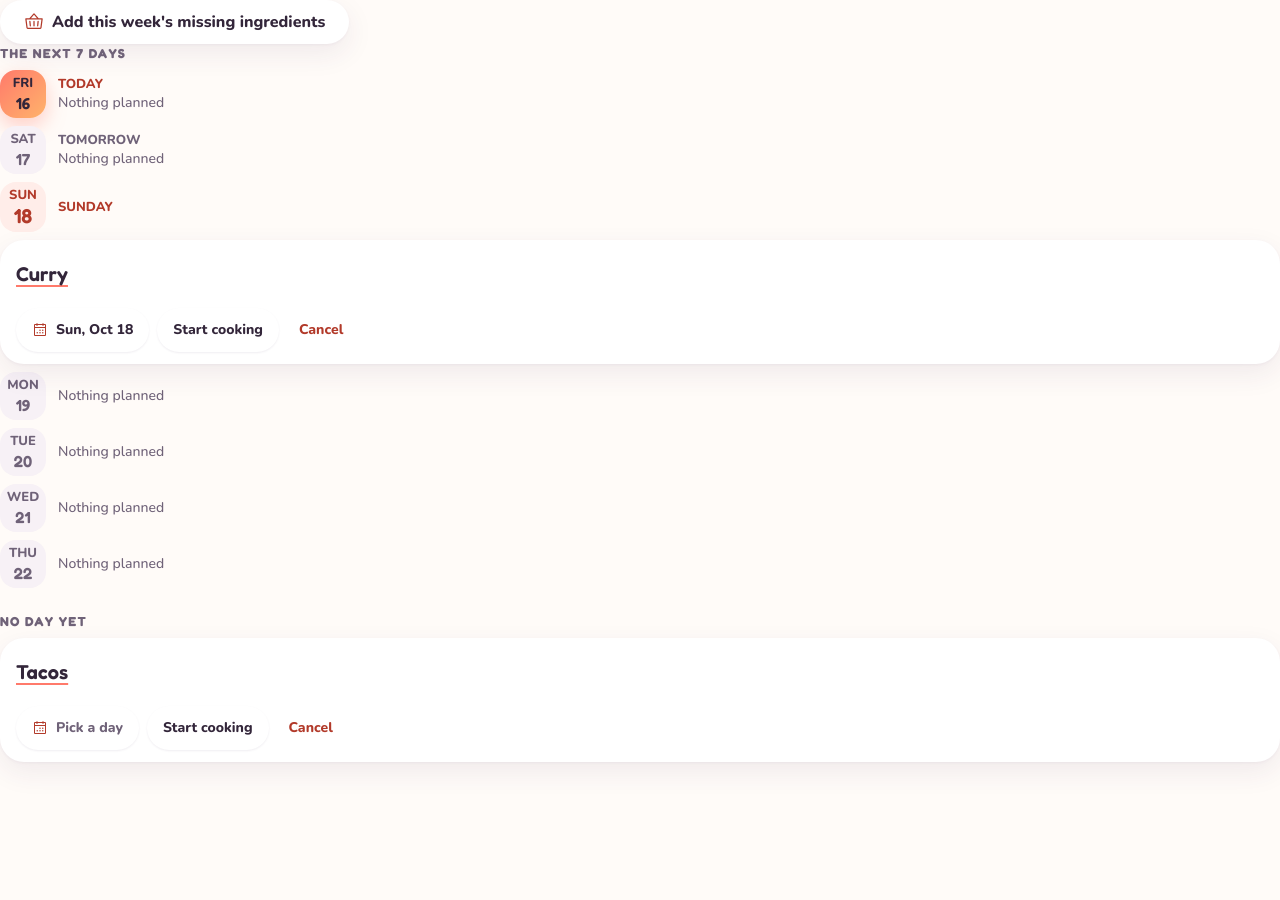
Test: Add this week's missing ingredients (KOS12) › empty states: no meals in the week; everything in the kitchen; everything already on the list
Click the button "Add this week's missing ingredients". click: click(175, 22)
box: [0, 0, 349, 44]
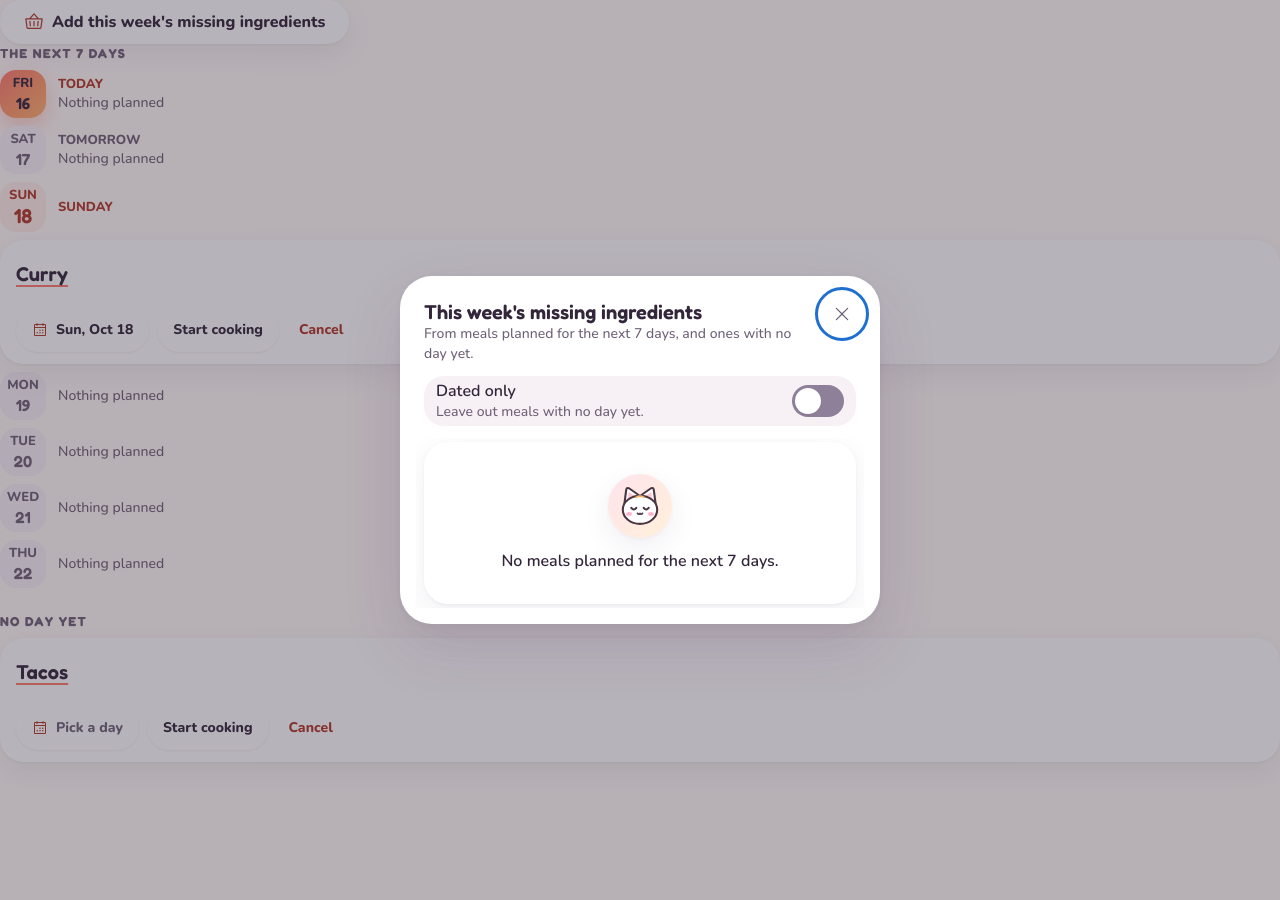
Expected: the text "No meals planned for the next 7 days." is shown, [502, 550, 778, 572]
Click the button named "Close". click: click(842, 314)
box: [820, 292, 864, 336]
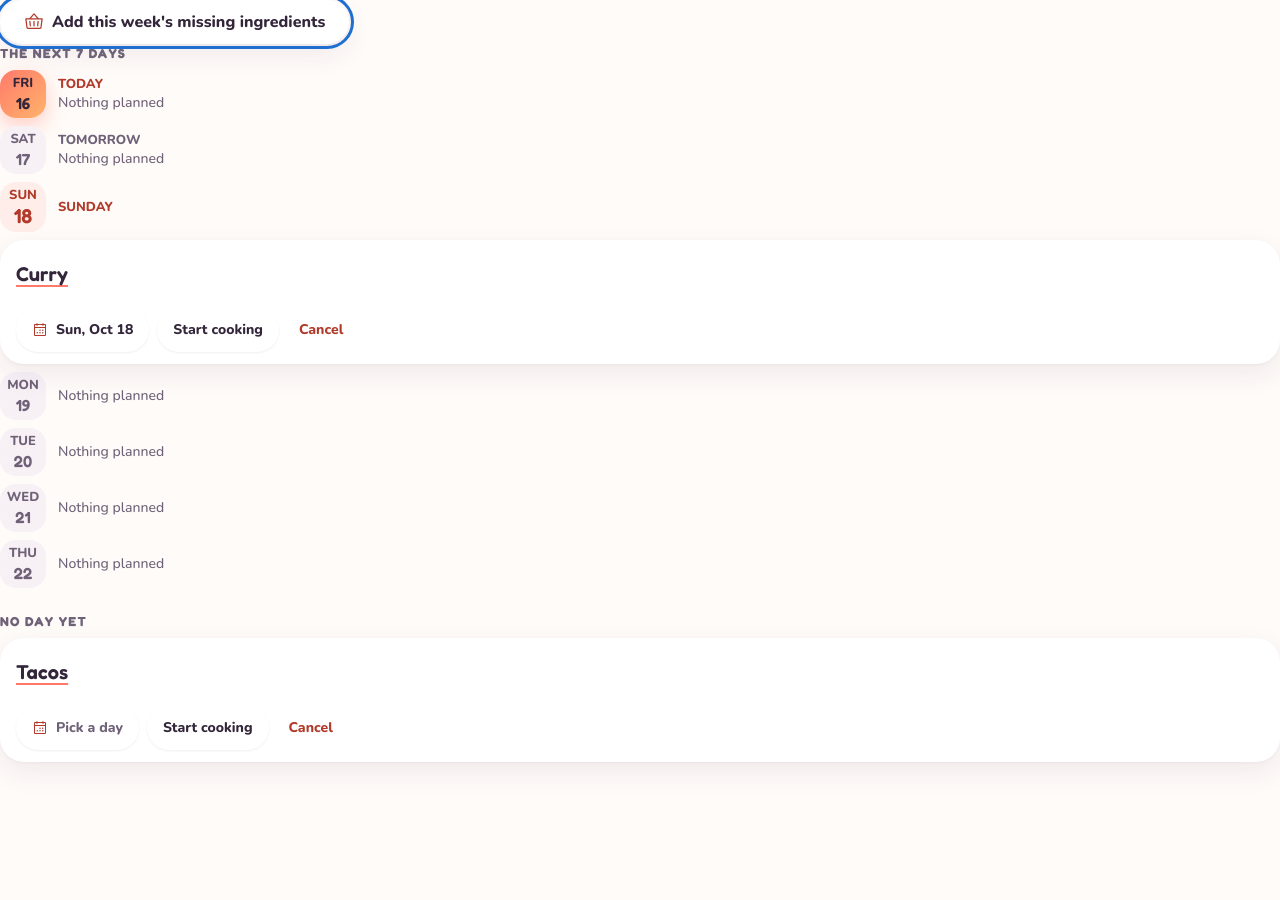
Click the button "Add this week's missing ingredients". click: click(175, 22)
box: [0, 0, 349, 44]
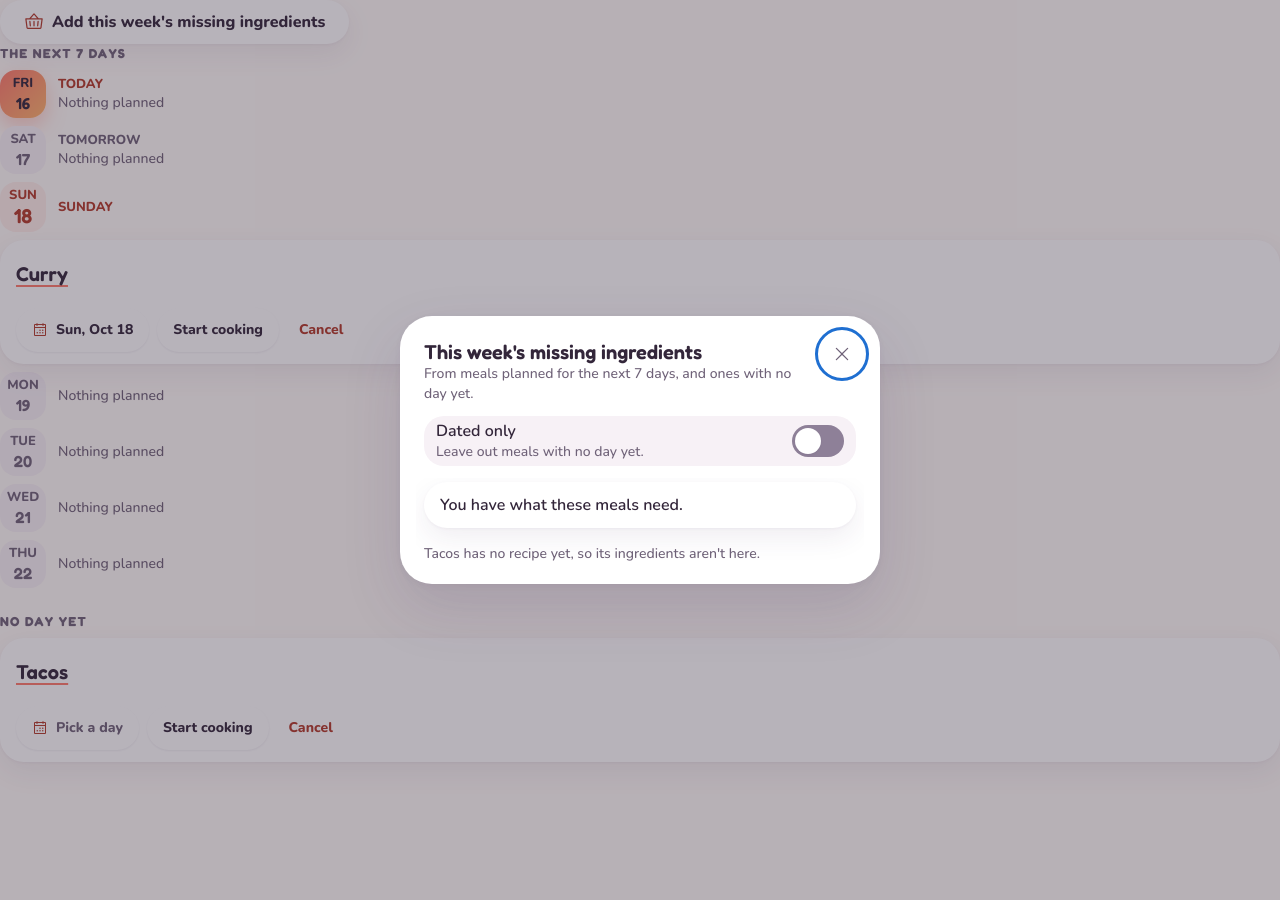
Expected: the text "You have what these meals need." is shown, [424, 482, 856, 528]
Click the button named "Close". click: click(842, 354)
box: [820, 332, 864, 376]
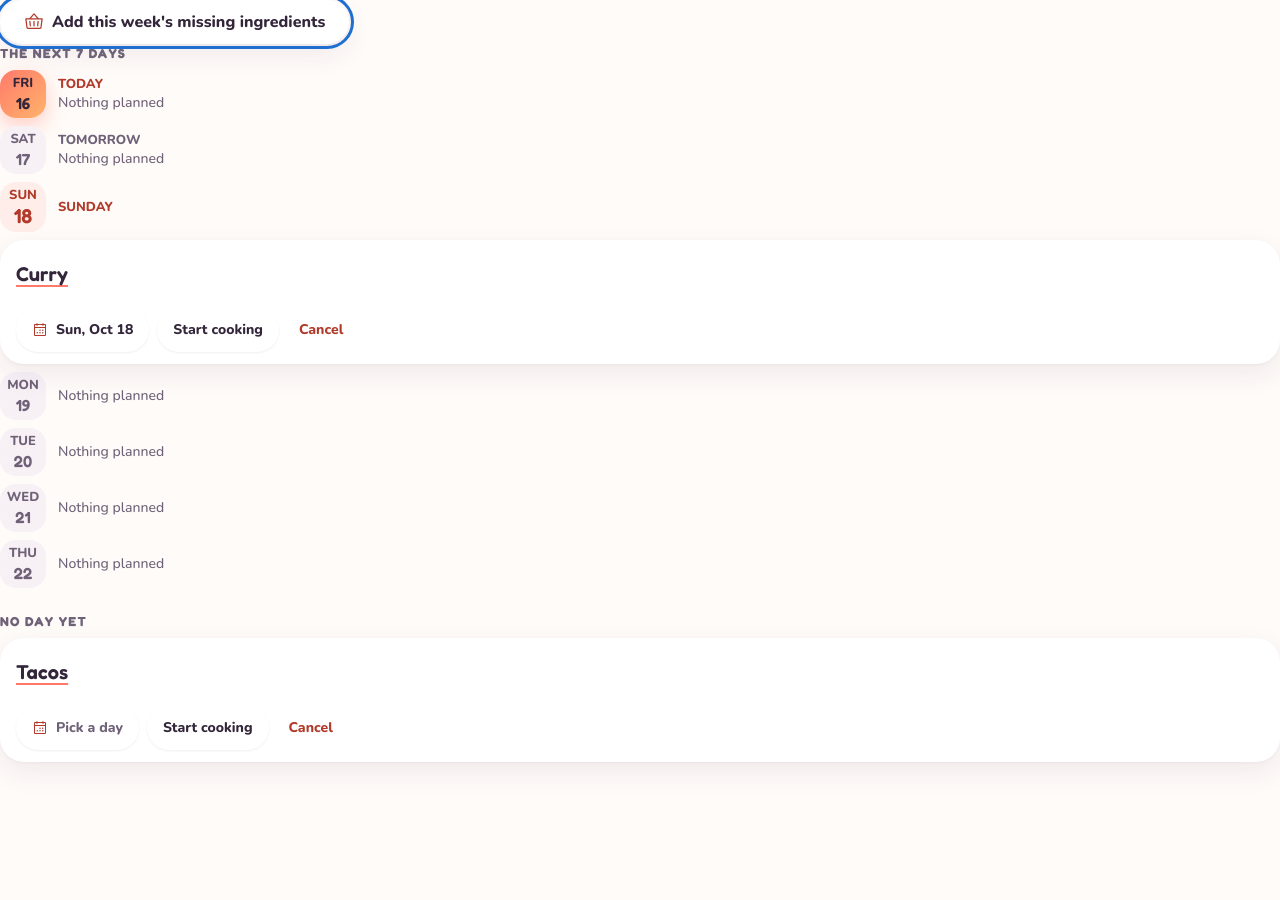
Click the button "Add this week's missing ingredients". click: click(175, 22)
box: [0, 0, 349, 44]
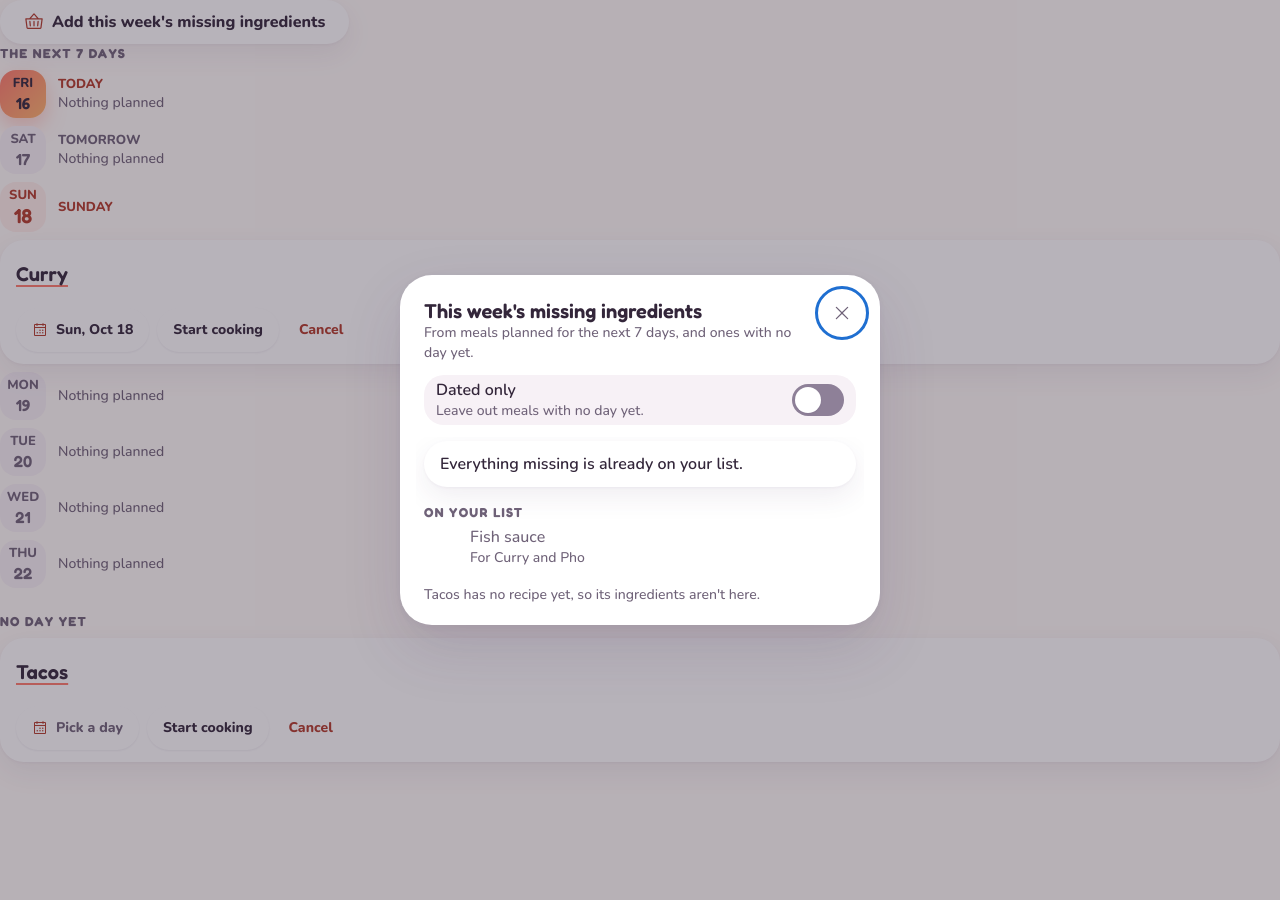
Expected: the text "Everything missing is already on your list." is shown, [424, 441, 856, 487]
